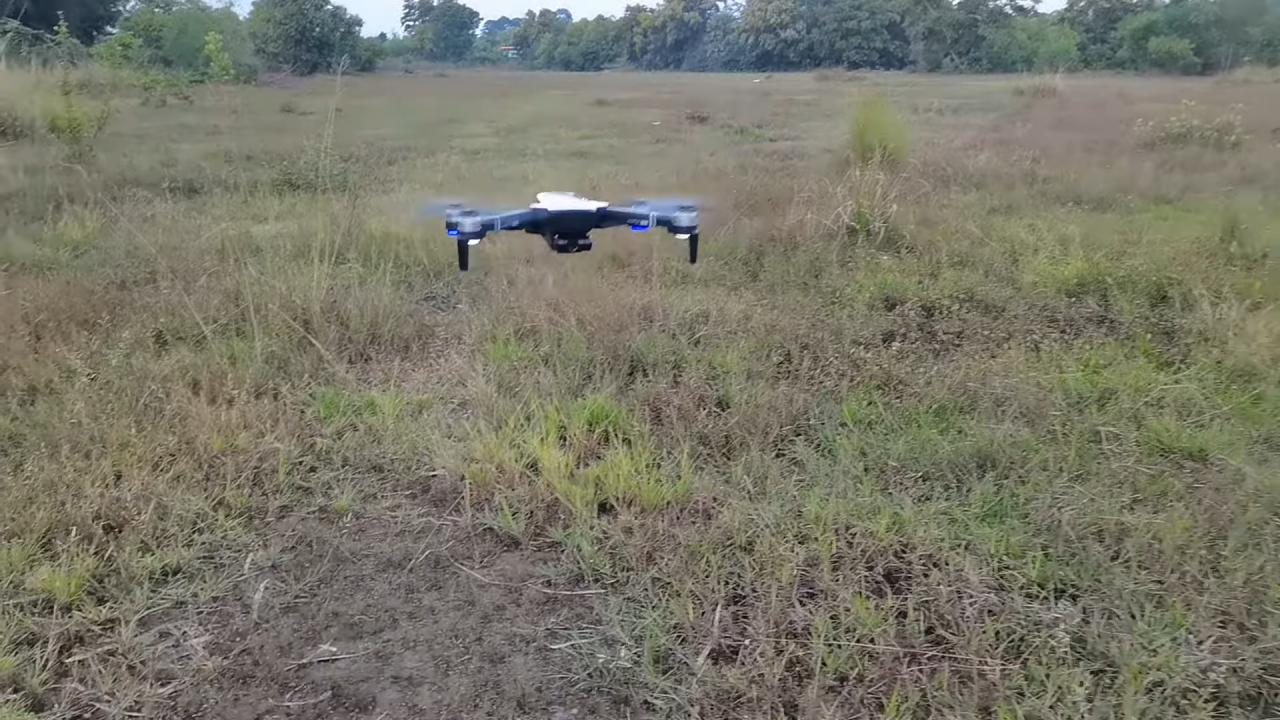Drone: (414, 181, 719, 279)
